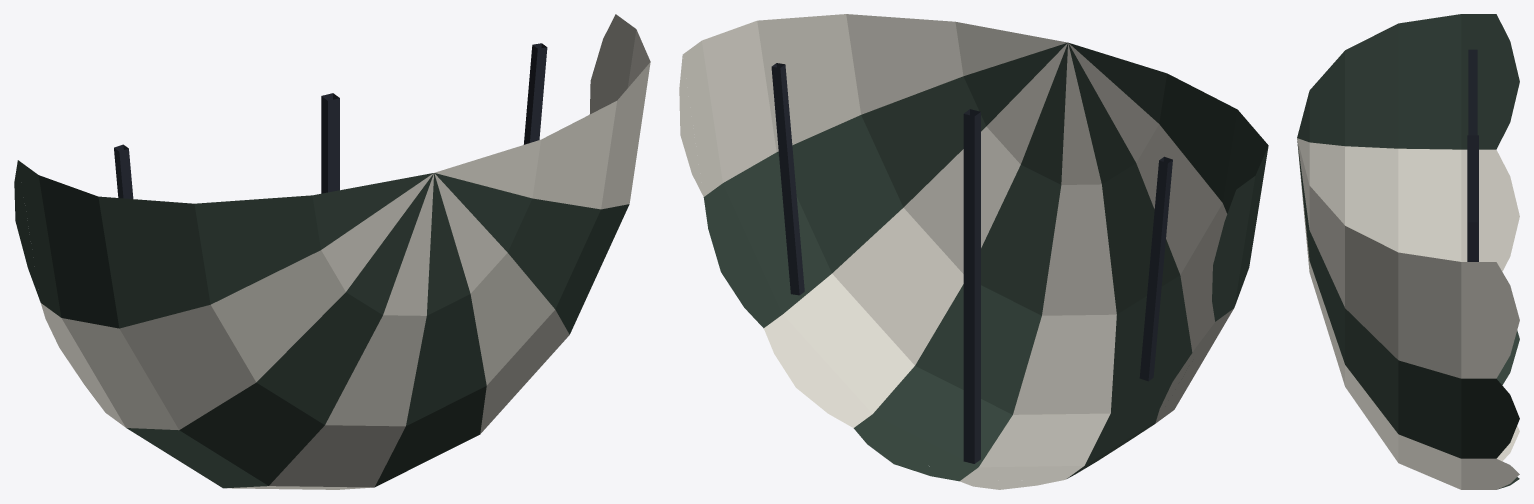
Rendered from keep-wd01_167.obj.
3 renders of one model, left to right at view 1: azimuth 30°, elevation 25°; view 2: azimuth 150°, elevation 25°; view 3: azimuth 270°, elevation 25°, orthographic. The views are drawn at different scales.
Bounding box in the file's own units: 1 × 0.6207 × 0.38.
Materials: 1 (1 with a texture image).
